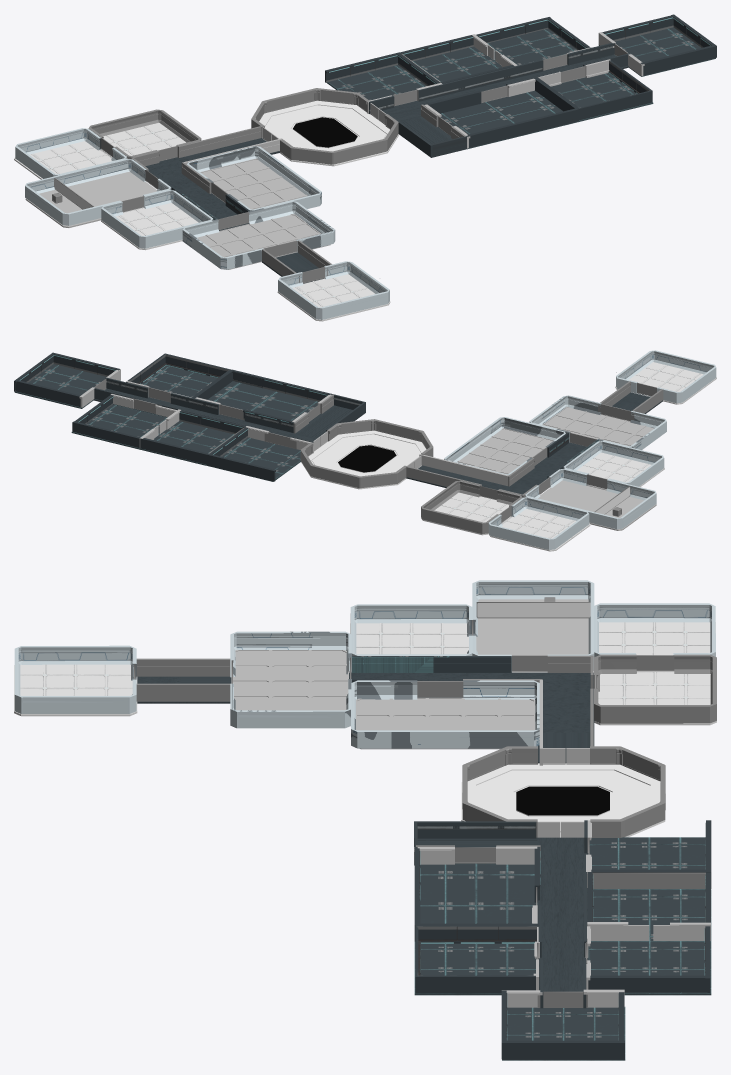
File: Level_02_Full 1.FBX
The picture shows the model from 3 angles, top to bottom: view 1: azimuth 30°, elevation 25°; view 2: azimuth 150°, elevation 25°; view 3: azimuth 270°, elevation 25°; orthographic projection. The views are drawn at different scales.
Parts seen in each view (by area): view 1: Box134, Box133, Labor_008, Box149, Labor_Boden_011, Labor_Boden_012, Labor_009, Box157, Labor_006, Labor_Boden_006, Labor_005, Labor_007 (+25 smaller); view 2: Box134, Box133, Labor_Boden_011, Box149, Labor_004, Labor_Boden_012, Box157, Labor_009, Labor_006, Labor_Boden_006, Labor_Wand_004, Flur_Boden_005 (+28 smaller); view 3: Box134, Flur_Boden_004, Labor_Boden_012, Box149, Labor_007, Labor_Boden_011, Box133, Labor_008, Flur_Boden_005, Labor_006, Box152, Labor_Boden_006 (+28 smaller).
Part boxes in pixels (left/top/right/bottom): Box134: left=259, top=100, right=399, bottom=166; Box133: left=251, top=88, right=398, bottom=164; Labor_008: left=182, top=201, right=335, bottom=269; Box149: left=440, top=90, right=578, bottom=149; Labor_Boden_011: left=200, top=158, right=307, bottom=209; Labor_Boden_012: left=197, top=214, right=330, bottom=269; Labor_009: left=25, top=158, right=171, bottom=225; Box157: left=598, top=14, right=716, bottom=76; Labor_006: left=278, top=261, right=389, bottom=319; Labor_Boden_006: left=25, top=172, right=156, bottom=227; Labor_005: left=101, top=190, right=213, bottom=248; Labor_007: left=187, top=146, right=321, bottom=210; Box134: left=301, top=430, right=426, bottom=489; Box133: left=300, top=419, right=433, bottom=488; Labor_Boden_011: left=457, top=428, right=553, bottom=474; Box149: left=207, top=381, right=318, bottom=420; Labor_004: left=488, top=497, right=589, bottom=549; Labor_Boden_012: left=542, top=407, right=654, bottom=445; Box157: left=14, top=352, right=120, bottom=407; Labor_009: left=525, top=468, right=656, bottom=529; Labor_006: left=616, top=350, right=716, bottom=403; Labor_Boden_006: left=538, top=480, right=656, bottom=530; Labor_Wand_004: left=421, top=480, right=522, bottom=533; Flur_Boden_005: left=406, top=442, right=586, bottom=494; Box134: left=461, top=763, right=665, bottom=837; Flur_Boden_004: left=417, top=837, right=588, bottom=991; Labor_Boden_012: left=231, top=650, right=349, bottom=710; Box149: left=419, top=863, right=537, bottom=923; Labor_007: left=351, top=680, right=539, bottom=748; Labor_Boden_011: left=356, top=697, right=535, bottom=749; Box133: left=462, top=746, right=665, bottom=837; Labor_008: left=230, top=631, right=351, bottom=728; Flur_Boden_005: left=349, top=672, right=594, bottom=763; Labor_006: left=14, top=645, right=136, bottom=713; Box152: left=415, top=925, right=539, bottom=993; Labor_Boden_006: left=476, top=599, right=588, bottom=672.
Bounding box in the file's own units: 178 × 3.71 × 114.
